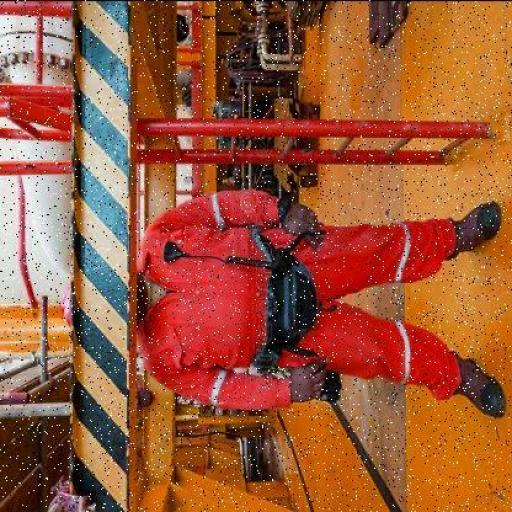person: (124, 184, 508, 430)
safety_shoe: (456, 349, 506, 437), (447, 196, 504, 266)
